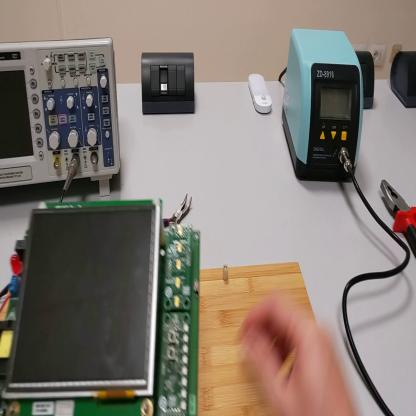hand: (241, 296, 354, 415)
low voltage board: (1, 202, 204, 415)
oscilloscope: (1, 39, 119, 197)
pliers: (381, 179, 416, 262)
socket: (390, 51, 416, 109), (356, 52, 375, 110)
welder station: (283, 29, 364, 185)
working area: (199, 262, 320, 412)
